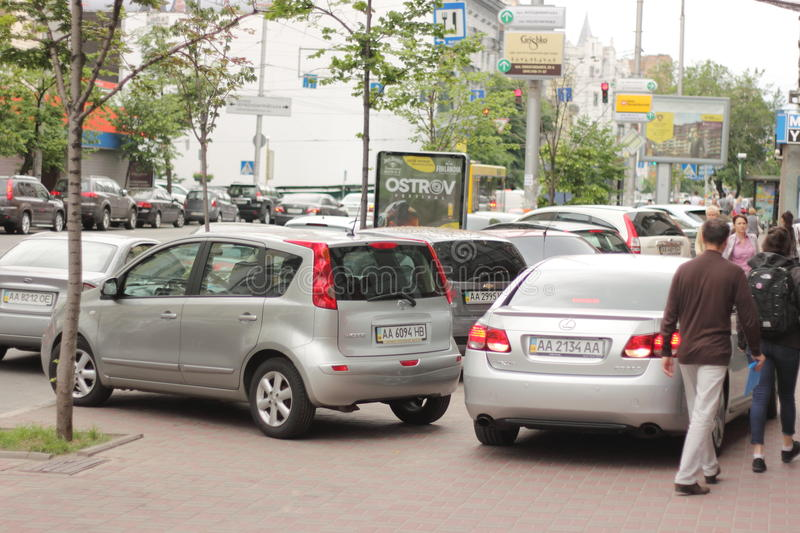numberplate: (527, 336, 605, 358), (1, 285, 55, 309), (374, 322, 427, 343), (460, 289, 501, 305)
